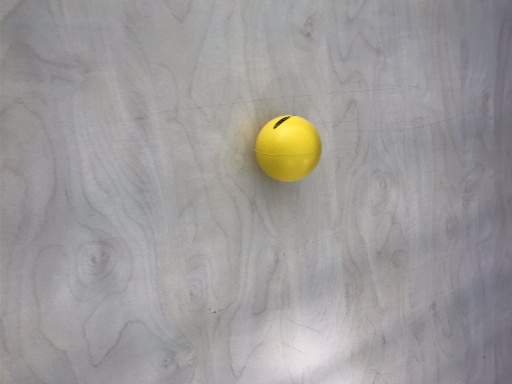Palla: (255, 115, 324, 183)
